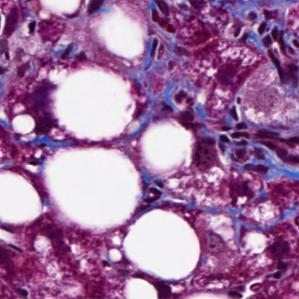inflammation: (216, 117, 285, 179), (243, 3, 299, 68)
